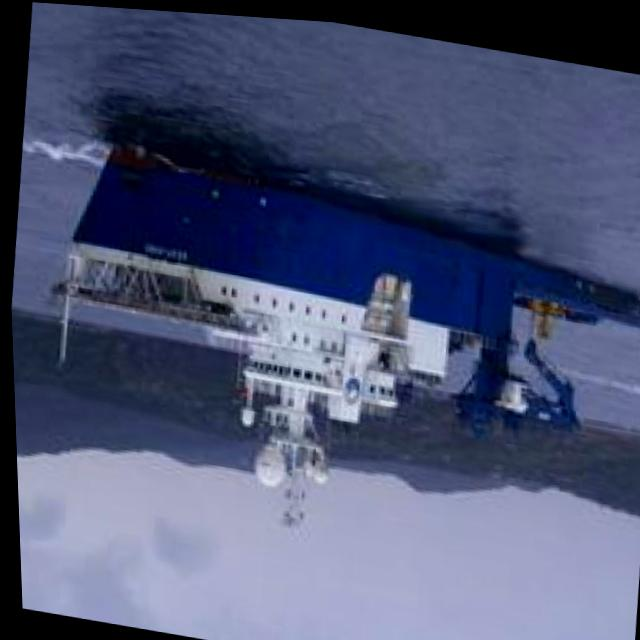ship2: (52, 139, 640, 507)
